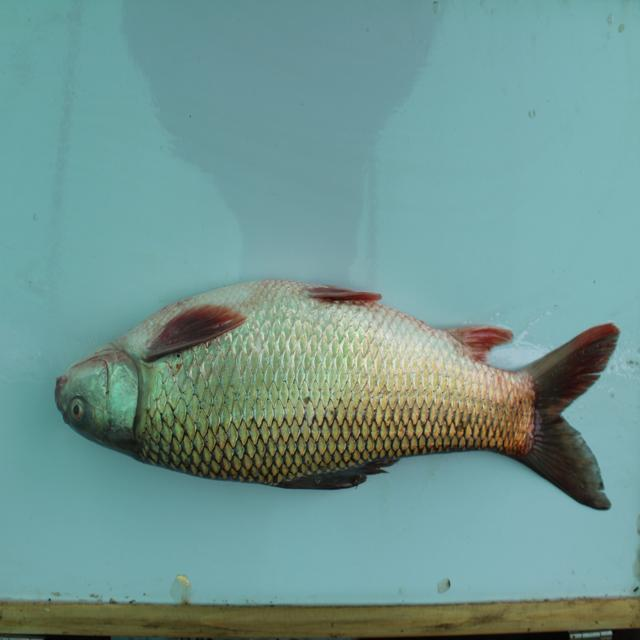Mori: (51, 268, 620, 518)
